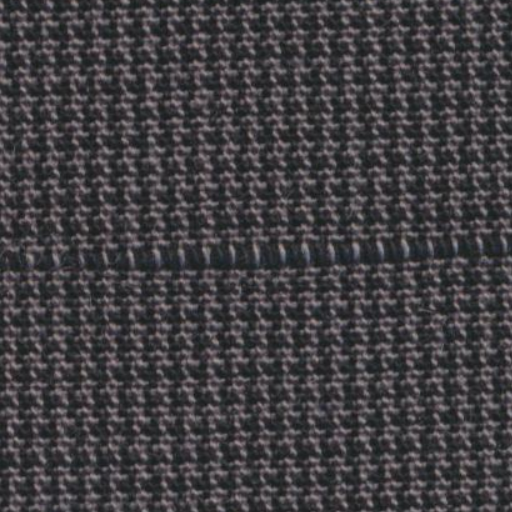DaiSha: (24, 227, 504, 283)
